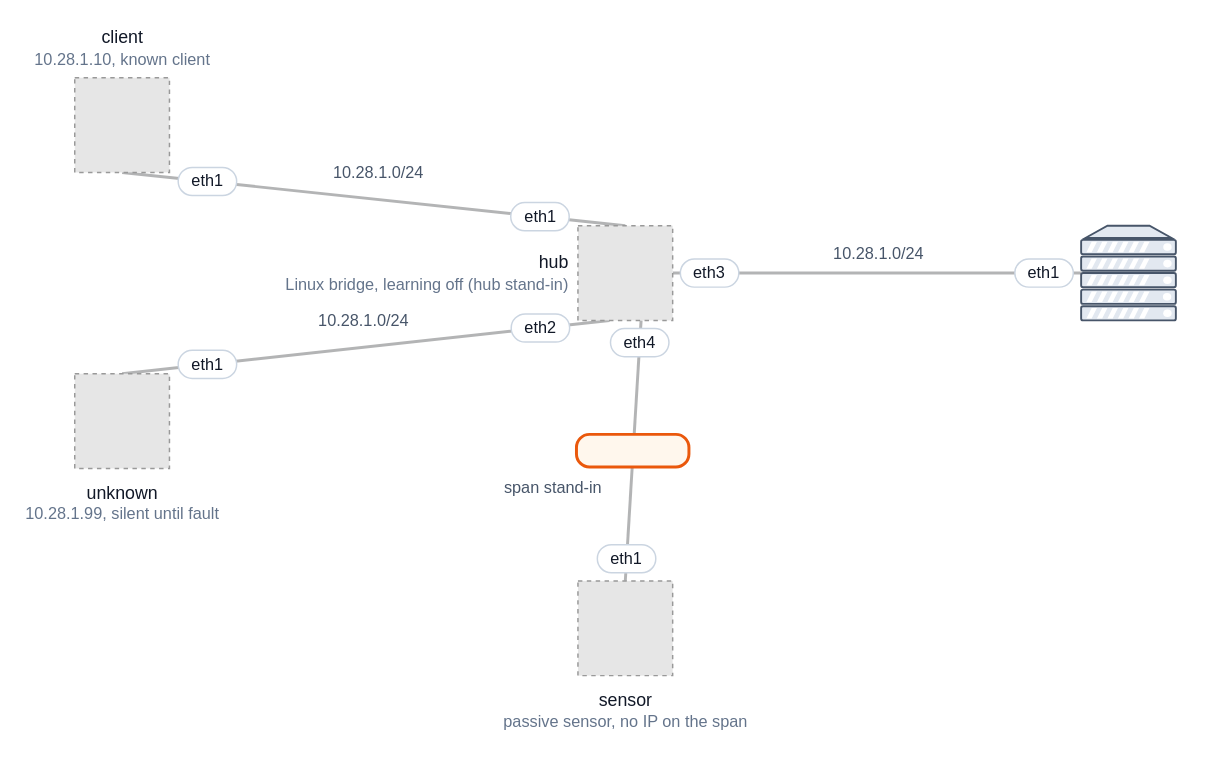
This 1225x758 diagram has some shape labels left out. Grey dashed boxes stand in for pictures. Each missing label, with the centre of its shape:
"capture" goes at point 632,450.
"server 10.28.1.20, web :80" goes at point 1128,272.
